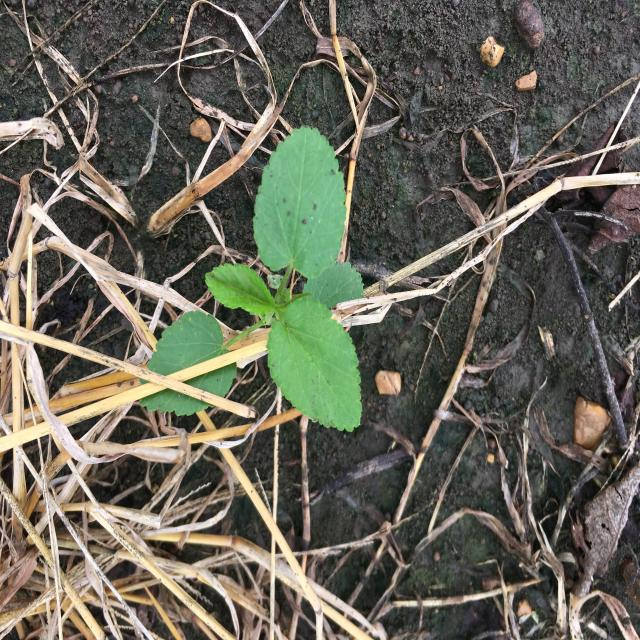PricklySida: (138, 124, 364, 432)
